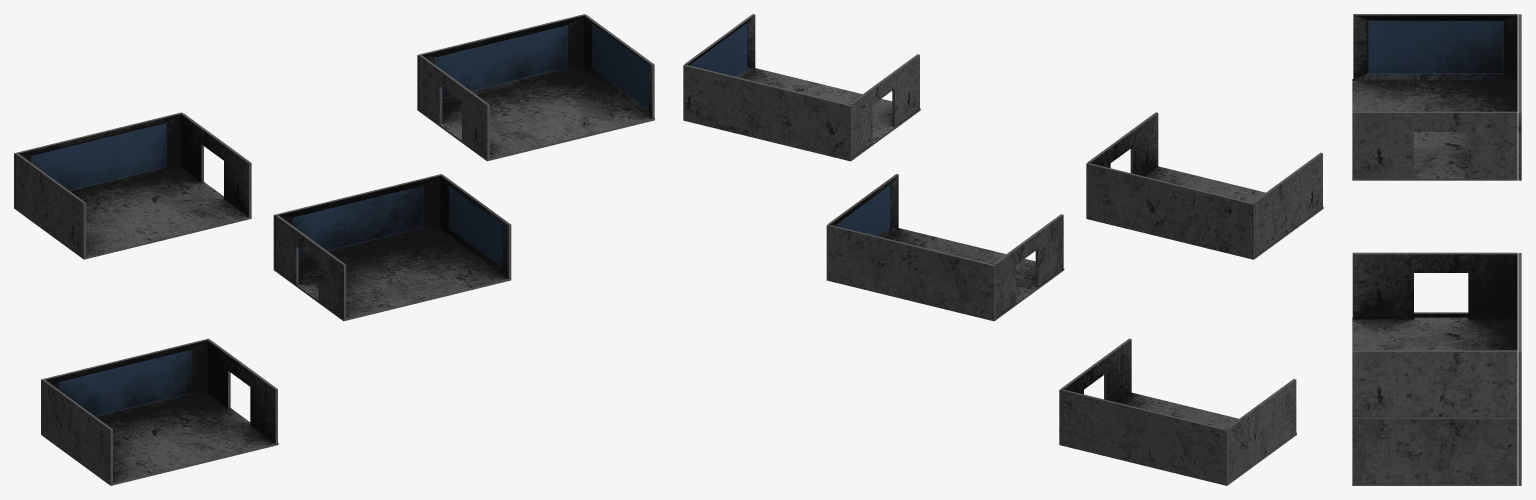
Rendered from ATOFINAL.fbx.
3 views of the same model, side by side, from view 1: azimuth 30°, elevation 25°; view 2: azimuth 150°, elevation 25°; view 3: azimuth 270°, elevation 25° (orthographic). The views are drawn at different scales.
Parts seen in each view (by area): view 1: polySurface9, polySurface13, polySurface1, polySurface7, polySurface15, polySurface11, polySurface5, polySurface3, polySurface12, polySurface16, polySurface4, polySurface8 (+4 smaller); view 2: polySurface11, polySurface3, polySurface15, polySurface5, polySurface8, polySurface4, polySurface14, polySurface10, polySurface13, polySurface9, polySurface16, polySurface12 (+4 smaller); view 3: polySurface16, polySurface4, polySurface12, polySurface2, polySurface14, polySurface1, polySurface13, polySurface3, polySurface15, polySurface9, polySurface8, polySurface11.
Boxes of the visible parts, box(x1,y1,x2,y2) form: polySurface9: box(275, 229, 511, 321); polySurface13: box(419, 69, 654, 161); polySurface1: box(15, 167, 251, 259); polySurface7: box(42, 394, 278, 485); polySurface15: box(417, 14, 585, 110); polySurface11: box(273, 174, 442, 270); polySurface5: box(41, 338, 209, 435); polySurface3: box(14, 112, 182, 209); polySurface12: box(440, 175, 511, 278); polySurface16: box(584, 15, 654, 118); polySurface4: box(16, 153, 86, 256); polySurface8: box(42, 380, 112, 483); polySurface11: box(826, 224, 995, 321); polySurface3: box(1086, 162, 1255, 259); polySurface15: box(683, 64, 852, 161); polySurface5: box(1059, 389, 1228, 485); polySurface8: box(1226, 379, 1296, 482); polySurface4: box(1252, 152, 1322, 256); polySurface14: box(849, 54, 919, 157); polySurface10: box(993, 214, 1063, 317); polySurface13: box(742, 68, 920, 159); polySurface9: box(885, 228, 1064, 319); polySurface16: box(685, 14, 755, 77); polySurface12: box(828, 174, 898, 237); polySurface16: box(1352, 350, 1517, 416); polySurface4: box(1353, 14, 1517, 80); polySurface12: box(1352, 419, 1517, 483); polySurface2: box(1352, 111, 1517, 178); polySurface14: box(1352, 252, 1517, 319); polySurface1: box(1352, 79, 1517, 180); polySurface13: box(1352, 317, 1517, 419); polySurface3: box(1518, 14, 1521, 180); polySurface15: box(1518, 253, 1521, 419); polySurface9: box(1352, 419, 1517, 485); polySurface8: box(1414, 312, 1468, 317); polySurface11: box(1518, 419, 1521, 485).
Bounding box in the file's own units: 85.54 × 41.3 × 18.14.
Materials: 1 (1 with a texture image).
